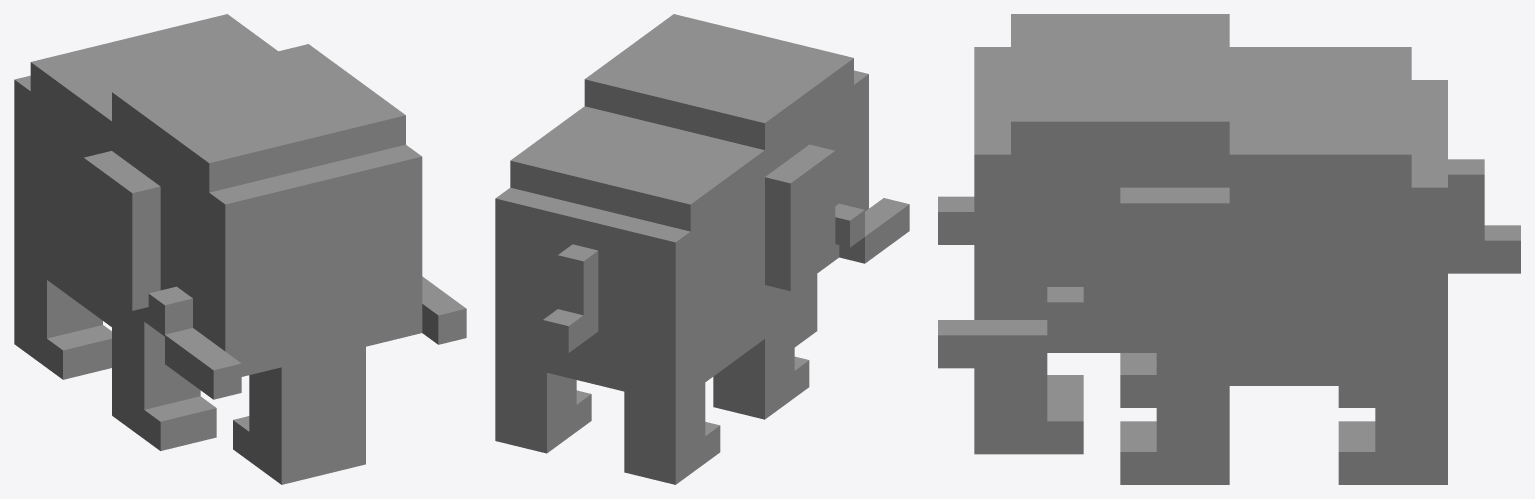
Rendered from elephant.fbx.
3 renders of one model, left to right at view 1: azimuth 30°, elevation 25°; view 2: azimuth 150°, elevation 25°; view 3: azimuth 270°, elevation 25°, orthographic. The views are drawn at different scales.
Parts seen in each view (by area): view 1: pCube1091, pCube1472, pCube1473, pCube1474, pCube1182, pCube1202, pCube1460, pCube1468, pCube906, pCube955, pCube1283, pCube194 (+142 smaller); view 2: pCube1351, pCube980, pCube1027, pCube1038, pCube1305, pCube1357, pCube1337, pCube1472, pCube158, pCube1430, pCube1297, pCube1343 (+78 smaller); view 3: pCube1019, pCube1241, pCube1462, pCube1016, pCube1148, pCube1438, pCube1030, pCube917, pCube935, pCube1023, pCube1033, pCube1056 (+120 smaller).
Boxes of the visible parts, x1=… form: pCube1091: x1=193, y1=144, x2=237, y2=192; pCube1472: x1=148, y1=286, x2=192, y2=334; pCube1473: x1=422, y1=297, x2=466, y2=344; pCube1474: x1=197, y1=351, x2=241, y2=399; pCube1182: x1=116, y1=174, x2=160, y2=222; pCube1202: x1=209, y1=186, x2=253, y2=233; pCube1460: x1=47, y1=332, x2=91, y2=379; pCube1468: x1=144, y1=403, x2=188, y2=450; pCube906: x1=209, y1=310, x2=253, y2=351; pCube955: x1=116, y1=211, x2=160, y2=251; pCube1283: x1=209, y1=222, x2=253, y2=263; pCube194: x1=128, y1=369, x2=172, y2=409; pCube1351: x1=557, y1=244, x2=598, y2=288; pCube980: x1=664, y1=187, x2=705, y2=231; pCube1027: x1=765, y1=166, x2=805, y2=210; pCube1038: x1=739, y1=106, x2=779, y2=149; pCube1305: x1=650, y1=225, x2=690, y2=269; pCube1357: x1=543, y1=309, x2=583, y2=352; pCube1337: x1=557, y1=278, x2=598, y2=315; pCube1472: x1=835, y1=203, x2=864, y2=247; pCube158: x1=739, y1=355, x2=779, y2=392; pCube1430: x1=739, y1=382, x2=779, y2=419; pCube1297: x1=650, y1=258, x2=690, y2=296; pCube1343: x1=650, y1=339, x2=690, y2=376; pCube1019: x1=1083, y1=106, x2=1120, y2=154; pCube1241: x1=1338, y1=139, x2=1375, y2=187; pCube1462: x1=1338, y1=436, x2=1375, y2=484; pCube1016: x1=1120, y1=187, x2=1156, y2=236; pCube1148: x1=1193, y1=187, x2=1229, y2=236; pCube1438: x1=1047, y1=405, x2=1083, y2=454; pCube1030: x1=1156, y1=187, x2=1192, y2=236; pCube917: x1=1375, y1=139, x2=1411, y2=187; pCube935: x1=1302, y1=139, x2=1338, y2=187; pCube1023: x1=1193, y1=106, x2=1229, y2=154; pCube1033: x1=1229, y1=139, x2=1265, y2=187; pCube1056: x1=1120, y1=106, x2=1156, y2=154.
Size of the model in its own units: 9 by 11 by 16.
